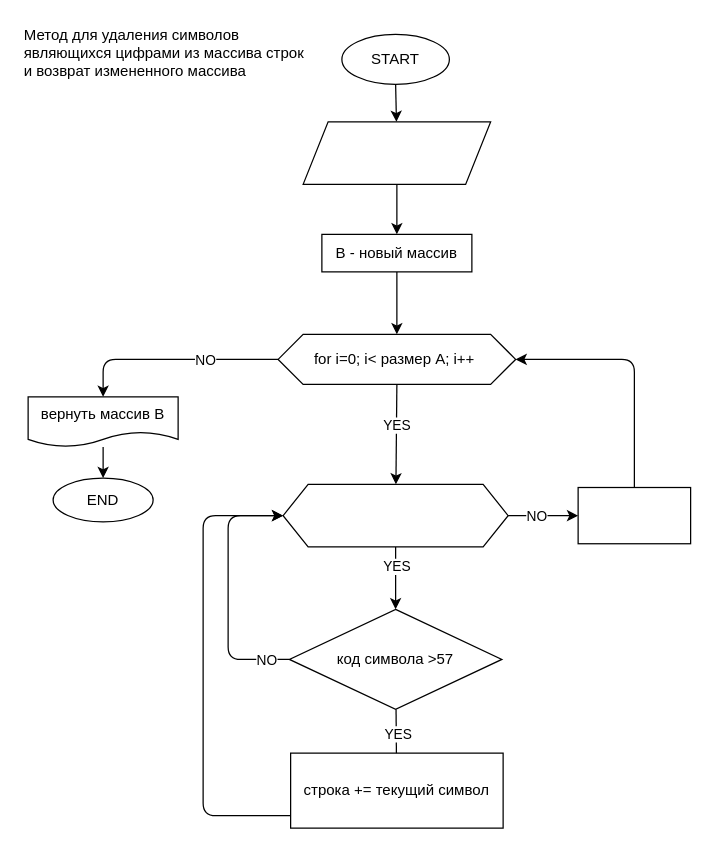
Some shapes in this 713 by 850 pixel diagram are drawn without their labels. The centre of each missing label's shape, as x and y in pixels:
A - массив строк: point (396, 152)
В[i] = строка; строка = "";: point (634, 515)
цикл по символам A[i] еще есть символы?: point (395, 515)
